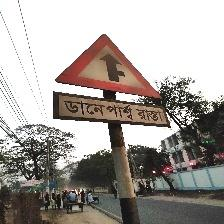Side-road-right: (53, 33, 169, 128)
